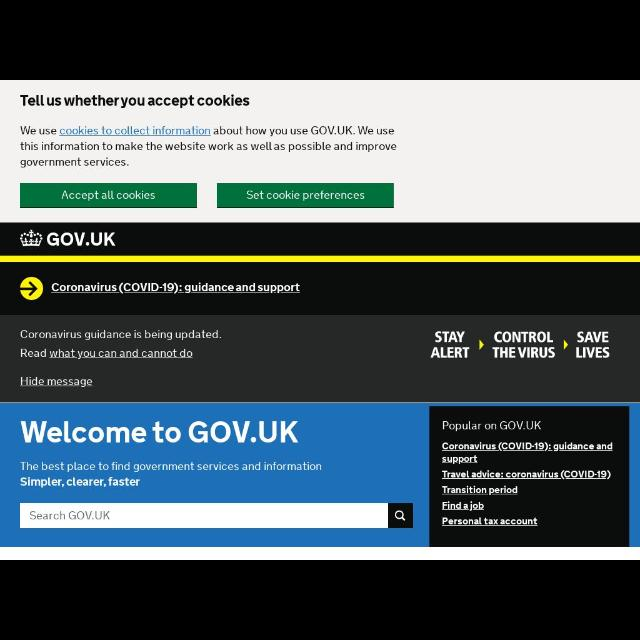button: (388, 504, 412, 528)
icon: (394, 510, 406, 520)
image: (20, 229, 116, 249), (21, 278, 44, 300)
input: (19, 504, 388, 528)
link: (60, 126, 210, 136)
text: (20, 124, 398, 168), (22, 461, 322, 487), (19, 419, 299, 445), (20, 329, 222, 358), (441, 442, 613, 464), (21, 94, 249, 108), (52, 282, 300, 294), (491, 328, 555, 359), (442, 470, 610, 480), (246, 190, 364, 202), (430, 328, 470, 359), (29, 508, 111, 522), (62, 189, 154, 201), (442, 420, 542, 430), (576, 329, 608, 358), (444, 516, 536, 526), (20, 375, 94, 387), (441, 484, 521, 494), (442, 500, 484, 512)
textbutton: (21, 183, 196, 207), (216, 184, 394, 206)
